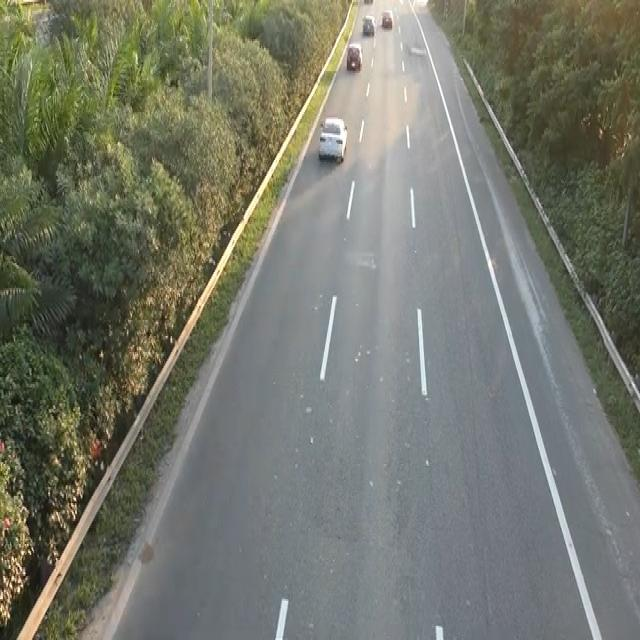bus: (316, 112, 351, 169), (345, 41, 362, 71), (361, 12, 376, 36)
